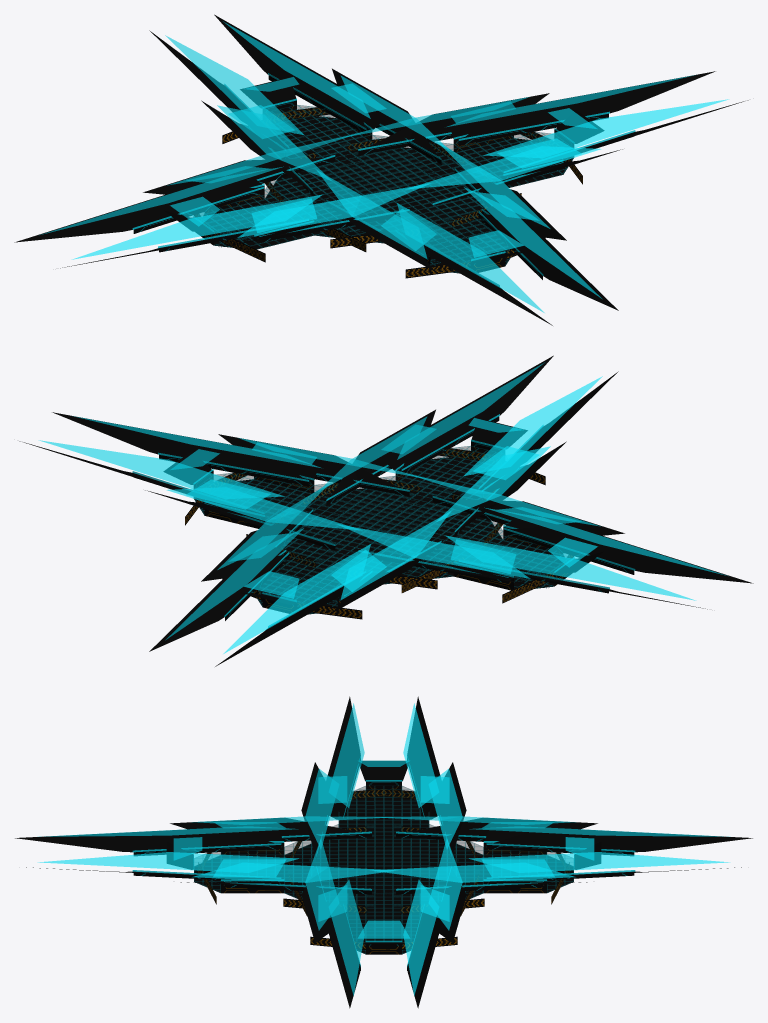
File: arena_walls_02.glb
The picture shows the model from 3 angles, top to bottom: view 1: azimuth 30°, elevation 25°; view 2: azimuth 150°, elevation 25°; view 3: azimuth 270°, elevation 25°; orthographic projection. The views are drawn at different scales.
Visible parts, largest first — view 1: plncl03, plncl02, wallAng01l01.017, wallAng01l01.007, wallAng01l01.028, wallAng02l01.004, wallAng01l01.010, wallAng02l01.021, wallAng02l01.014, wallAng02l01.001, wallAng02l01.019, plns1l03.003 (+44 smaller); view 2: plncl03, plncl02, wallAng01l01.021, wallAng01l01.003, wallAng01l01.010, wallAng02l01.007, wallAng01l01.028, wallAng02l01.017, wallAng02l01.024, wallAng02l01.003, wallAng02l01.015, plns1l03.001 (+44 smaller); view 3: plncl03, plncl02, wallAng01l01.014, wallAng01l01.024, wallAng02l01.010, wallAng02l01.028, plns1l03, wallAng02l01.008, wallAng02l01.026, plns1l02.002, plncl01, plns1l03.002 (+41 smaller).
Boxes of the visible parts, box(x1,y1,x2,y2) form: plncl03: box(276, 148, 485, 236); plncl02: box(282, 146, 477, 230); wallAng01l01.017: box(463, 71, 715, 138); wallAng01l01.007: box(14, 183, 257, 242); wallAng01l01.028: box(214, 14, 365, 127); wallAng02l01.004: box(72, 194, 322, 259); wallAng01l01.010: box(483, 214, 618, 310); wallAng02l01.021: box(483, 99, 728, 156); wallAng02l01.014: box(397, 203, 544, 312); wallAng02l01.001: box(237, 183, 430, 237); wallAng02l01.019: box(405, 146, 600, 189); plns1l03.003: box(278, 118, 386, 175); plncl03: box(282, 489, 491, 577); plncl02: box(290, 487, 485, 571); wallAng01l01.021: box(52, 412, 304, 479); wallAng01l01.003: box(510, 524, 753, 583); wallAng01l01.010: box(402, 355, 553, 468); wallAng02l01.007: box(445, 535, 695, 600); wallAng01l01.028: box(149, 555, 284, 651); wallAng02l01.017: box(39, 440, 284, 497); wallAng02l01.024: box(223, 544, 370, 653); wallAng02l01.003: box(337, 524, 530, 578); wallAng02l01.015: box(167, 487, 362, 530); plns1l03.001: box(381, 459, 489, 516); plncl03: box(311, 843, 456, 904); plncl02: box(311, 835, 456, 896); wallAng01l01.014: box(15, 828, 274, 851); wallAng01l01.024: box(493, 828, 752, 851); wallAng02l01.010: box(38, 852, 298, 871); wallAng02l01.028: box(469, 852, 729, 871); plns1l03: box(339, 805, 428, 843); wallAng02l01.008: box(192, 862, 397, 882); wallAng02l01.026: box(370, 862, 575, 882); plns1l02.002: box(338, 797, 429, 831); plncl01: box(347, 842, 420, 872); plns1l03.002: box(346, 904, 421, 941).
Bounding box in the file's own units: 164 × 7.43 × 164.
13 materials, 11 textured.
